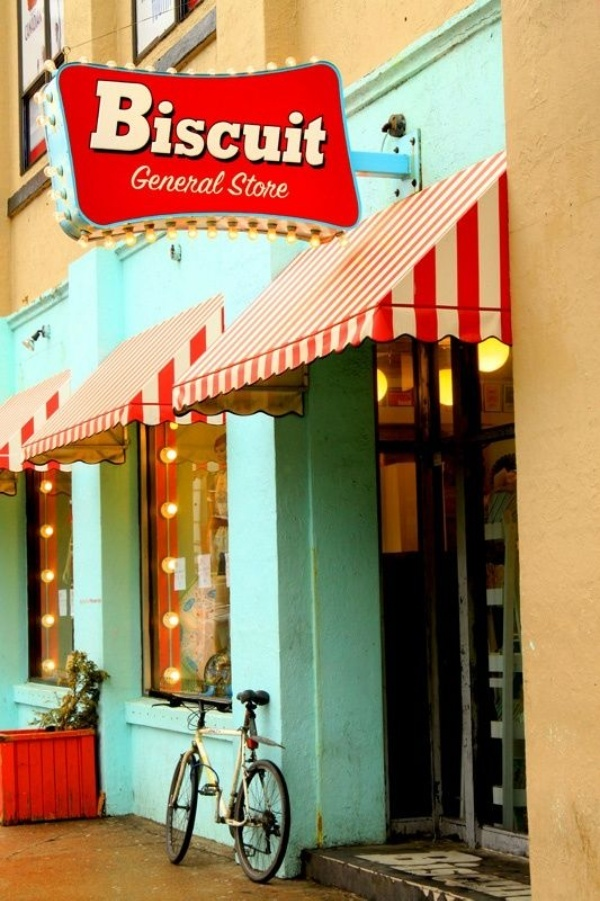text: (97, 75, 112, 169), (113, 75, 128, 169), (129, 75, 144, 169), (145, 75, 160, 169), (161, 75, 176, 169), (177, 75, 192, 169), (193, 75, 208, 169), (209, 75, 224, 169), (225, 75, 240, 169), (241, 75, 256, 169), (257, 75, 272, 169), (273, 75, 288, 169), (289, 75, 304, 169), (305, 75, 320, 169), (321, 75, 329, 169), (241, 167, 256, 201), (257, 167, 272, 201), (273, 167, 288, 201), (145, 164, 160, 195), (161, 164, 176, 195), (177, 164, 192, 195), (193, 164, 208, 195), (209, 164, 224, 195), (21, 6, 32, 44), (33, 6, 44, 44), (133, 164, 144, 195), (234, 167, 240, 201), (225, 164, 229, 195), (289, 167, 291, 201)
